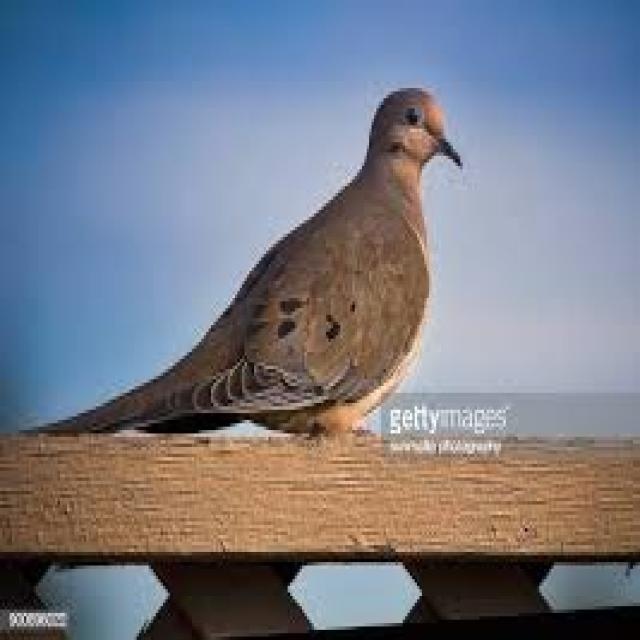pigeon: (31, 78, 474, 468)
